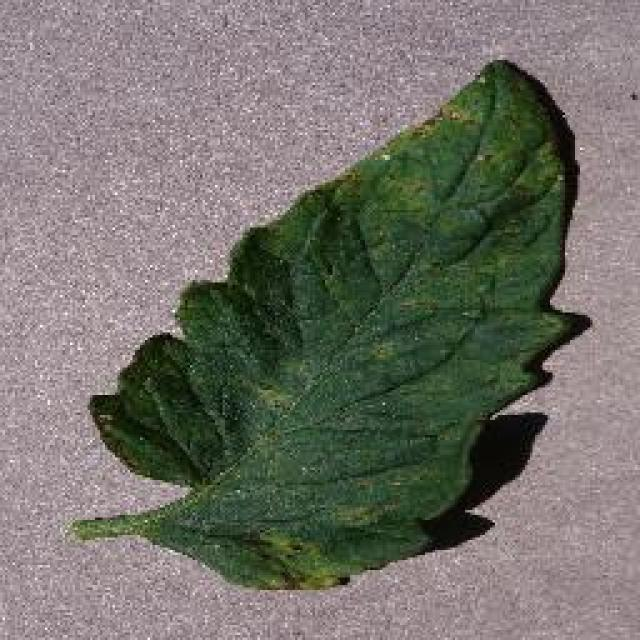Tomato___Septoria_leaf_spot: (70, 60, 580, 588)
